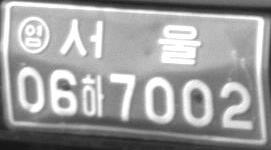0: (180, 77, 213, 128), (143, 75, 175, 125), (15, 66, 46, 114)
2: (218, 81, 254, 130)
6: (48, 68, 78, 116)
7: (109, 72, 136, 121)
서울_D: (57, 18, 203, 65)
영: (17, 15, 51, 55)
하: (80, 73, 105, 118)
